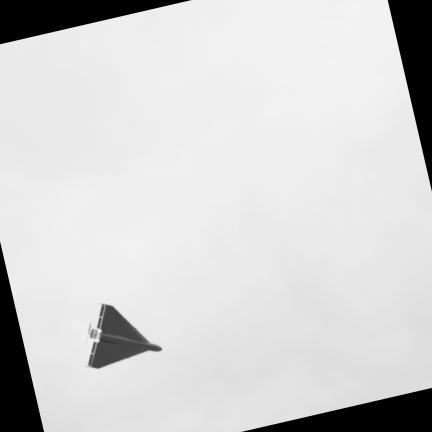Shahed: (89, 304, 161, 367)
